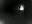person: (18, 6, 25, 15)
